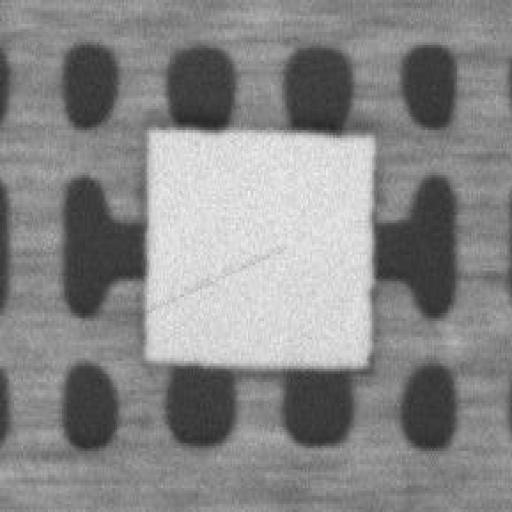DIE_CRACK: (218, 163, 424, 205)
